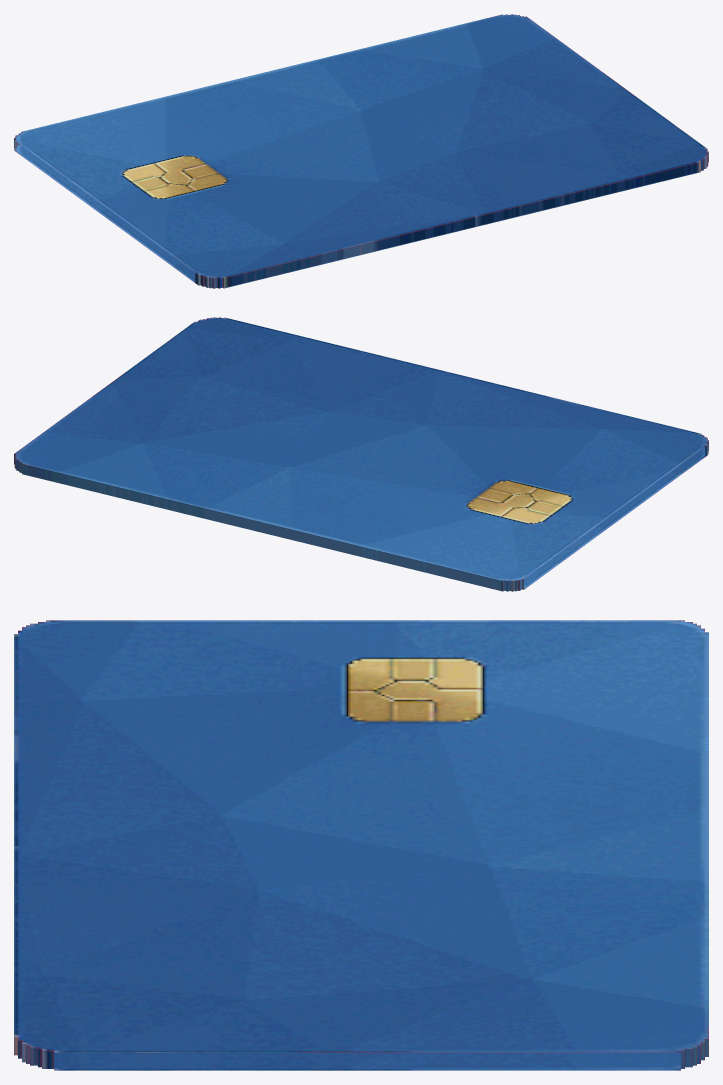
The model's file is bluecardvox.fbx.
The picture shows the model from 3 angles, top to bottom: view 1: azimuth 30°, elevation 25°; view 2: azimuth 150°, elevation 25°; view 3: azimuth 270°, elevation 25°; orthographic projection. The views are drawn at different scales.
Parts seen in each view (by area): view 1: bluecardvox.001; view 2: bluecardvox.001; view 3: bluecardvox.001.
Part boxes in pixels (left/top/right/bottom): bluecardvox.001: left=14, top=14, right=708, bottom=288; bluecardvox.001: left=14, top=317, right=708, bottom=591; bluecardvox.001: left=14, top=620, right=708, bottom=1070.
Size of the model in its own units: 25.6 by 0.5 by 17.4.
Materials: 1 (1 with a texture image).
